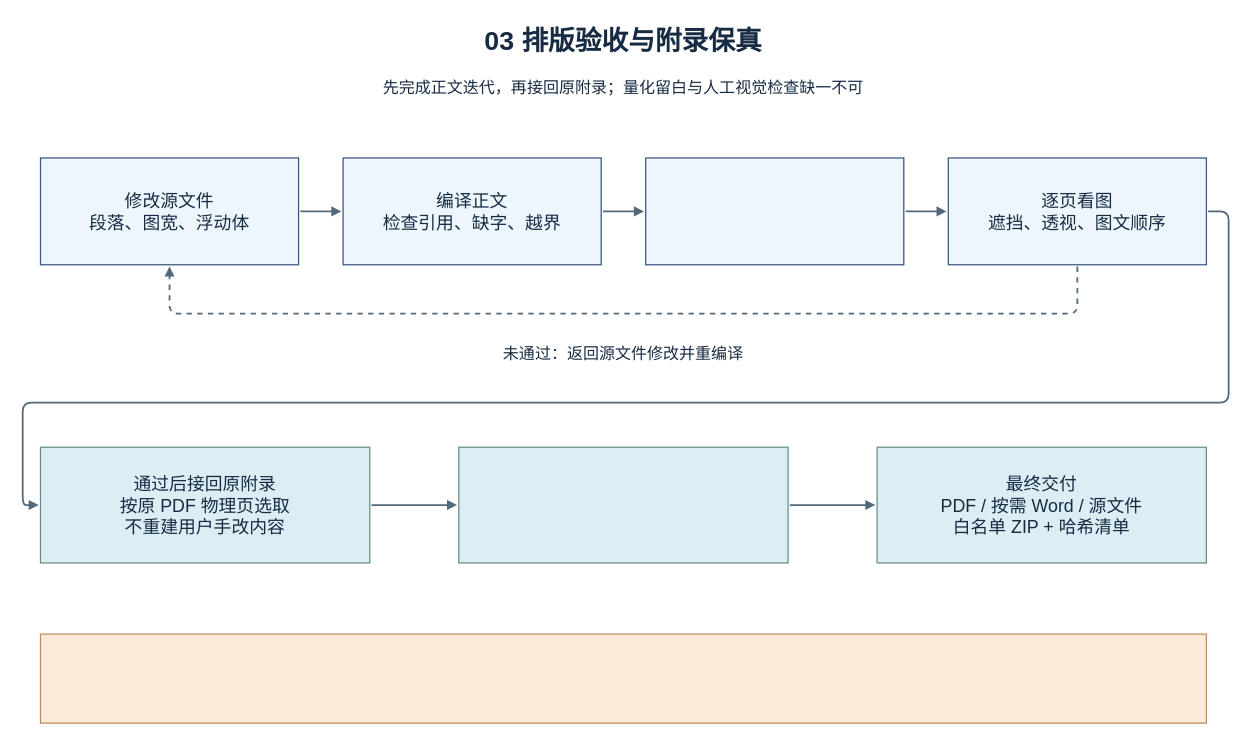
Some shapes in this 1251 by 739 pixel diagram are drawn without their labels. Each missing label, with the centre of its shape:
留白口径：版心内“整行宽度连续空白高度” ÷ 版心高度 20% 是示例阈值，不是整页白色像素比例；自动指标不能发现全部重叠: point 623,678
自动检查 页数、公式文本、留白: point 774,211
逐页保真比对 文字 + 渲染像素 加页码只使用空白页脚: point 623,504
